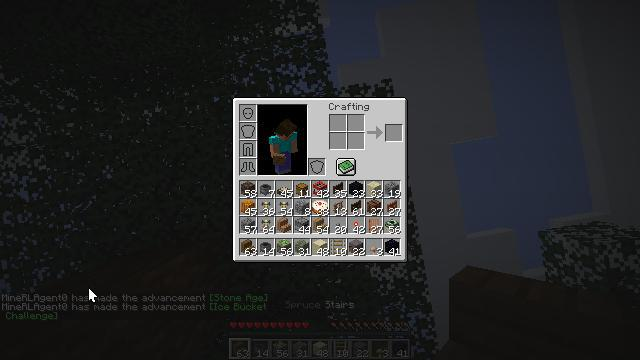cursor: (287, 88, 303, 98)
